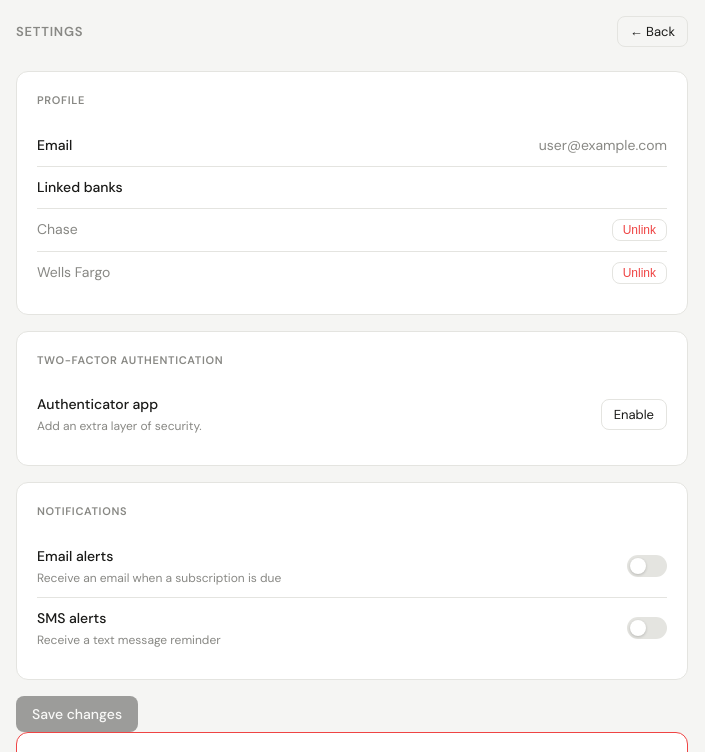
it: Settings — unlink account › shows Unlinking… while in flight
Expected: the text "Chase" is shown, [37, 219, 78, 240]
Click the button with aria-label "unlink chase" at (639, 230), box [612, 218, 667, 240]
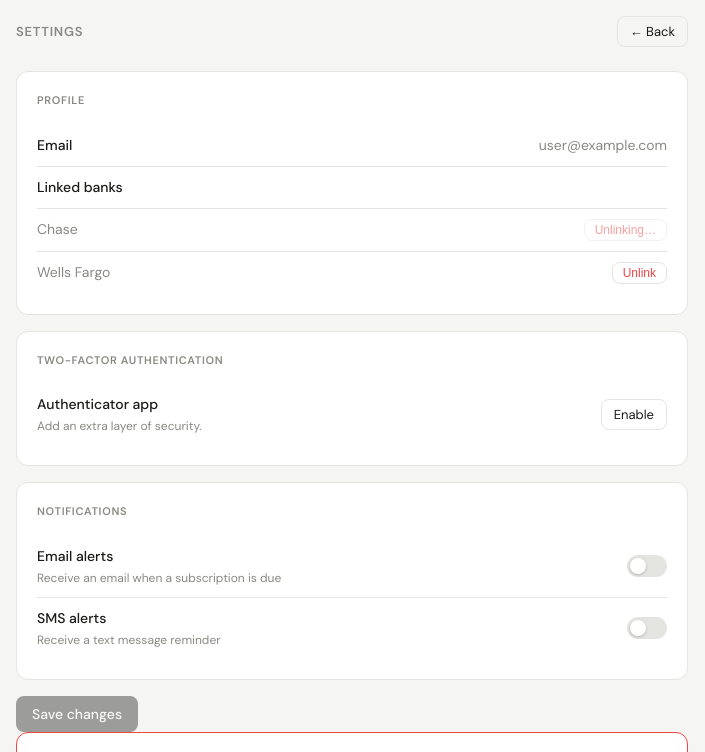
Expected: the button "Unlinking…" is shown, [584, 218, 667, 240]
